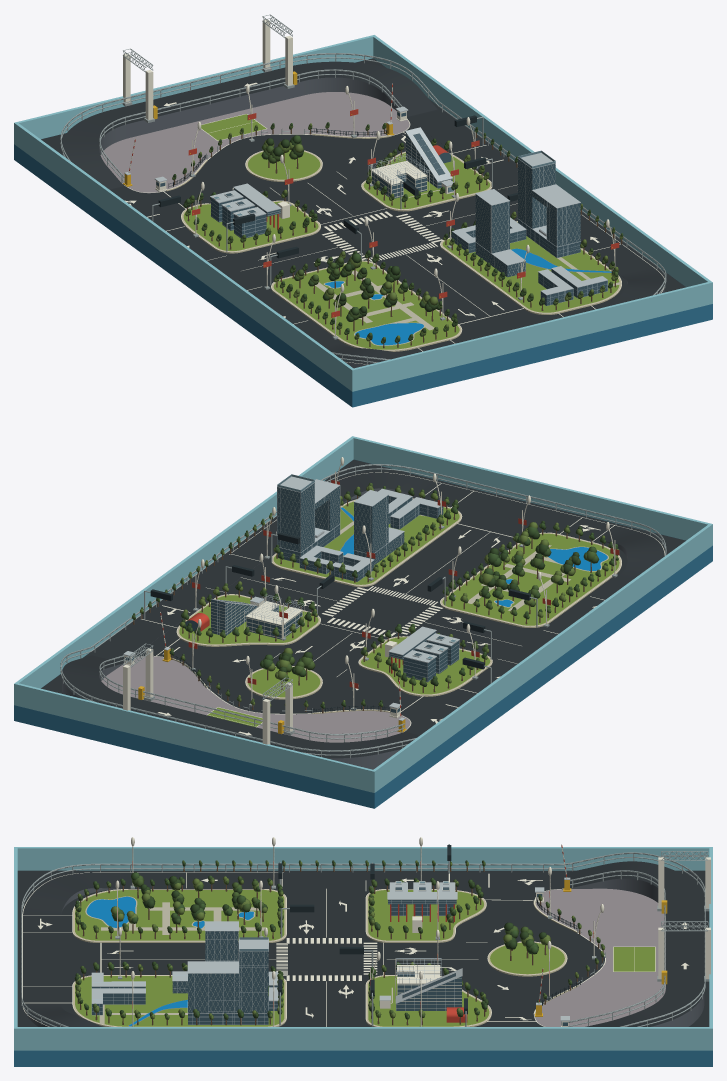
Rendered from dongfeng_sandbox.glb.
3 views of the same model, one above another, from view 1: azimuth 30°, elevation 25°; view 2: azimuth 150°, elevation 25°; view 3: azimuth 270°, elevation 25° (orthographic). The views are drawn at different scales.
Parts seen in each view (by area): view 1: ground_asphalt, boundary_acrylic, elevated_road_asphalt, landscape_grass, boundary_blue_board, yard_grey_yard, buildings_glass, buildings_roof, elevated_road_deck_side, rails_steel, markings_white, street_furniture_white (+14 smaller); view 2: boundary_acrylic, ground_asphalt, elevated_road_asphalt, landscape_grass, boundary_blue_board, buildings_glass, yard_grey_yard, rails_steel, markings_white, buildings_roof, street_furniture_white, landscape_kerb (+13 smaller); view 3: boundary_acrylic, ground_asphalt, elevated_road_asphalt, landscape_grass, boundary_blue_board, yard_grey_yard, buildings_glass, rails_steel, markings_white, buildings_roof, street_furniture_white, landscape_kerb (+14 smaller).
Boxes of the visible parts, x1,y1,x2,y2 form: ground_asphalt: (41,58,685,353); boundary_acrylic: (14,35,712,391); elevated_road_asphalt: (62,61,664,364); landscape_grass: (183,150,619,349); boundary_blue_board: (14,58,712,407); yard_grey_yard: (100,92,409,193); buildings_glass: (211,133,607,305); buildings_roof: (210,127,607,295); elevated_road_deck_side: (62,77,664,368); rails_steel: (60,53,666,364); markings_white: (124,82,664,364); street_furniture_white: (123,19,615,337); boundary_acrylic: (14,436,712,792); ground_asphalt: (41,459,685,732); elevated_road_asphalt: (62,472,664,758); landscape_grass: (179,501,619,697); boundary_blue_board: (14,460,712,808); buildings_glass: (185,483,458,682); yard_grey_yard: (101,656,410,742); rails_steel: (60,464,666,758); markings_white: (135,472,664,735); buildings_roof: (210,476,459,662); street_furniture_white: (123,457,615,744); landscape_kerb: (172,498,621,714); boundary_acrylic: (14,847,712,1050); ground_asphalt: (17,870,709,1026); elevated_road_asphalt: (23,861,704,1026); landscape_grass: (75,890,564,1026); boundary_blue_board: (14,1050,712,1066); yard_grey_yard: (535,888,665,1026); buildings_glass: (92,900,461,1024); rails_steel: (21,852,705,1026); markings_white: (22,872,688,1026); buildings_roof: (91,882,462,1013); street_furniture_white: (115,837,710,1026); landscape_kerb: (73,889,578,1026).
Bounding box in the file's own units: 3.36 × 0.8068 × 5.46.
